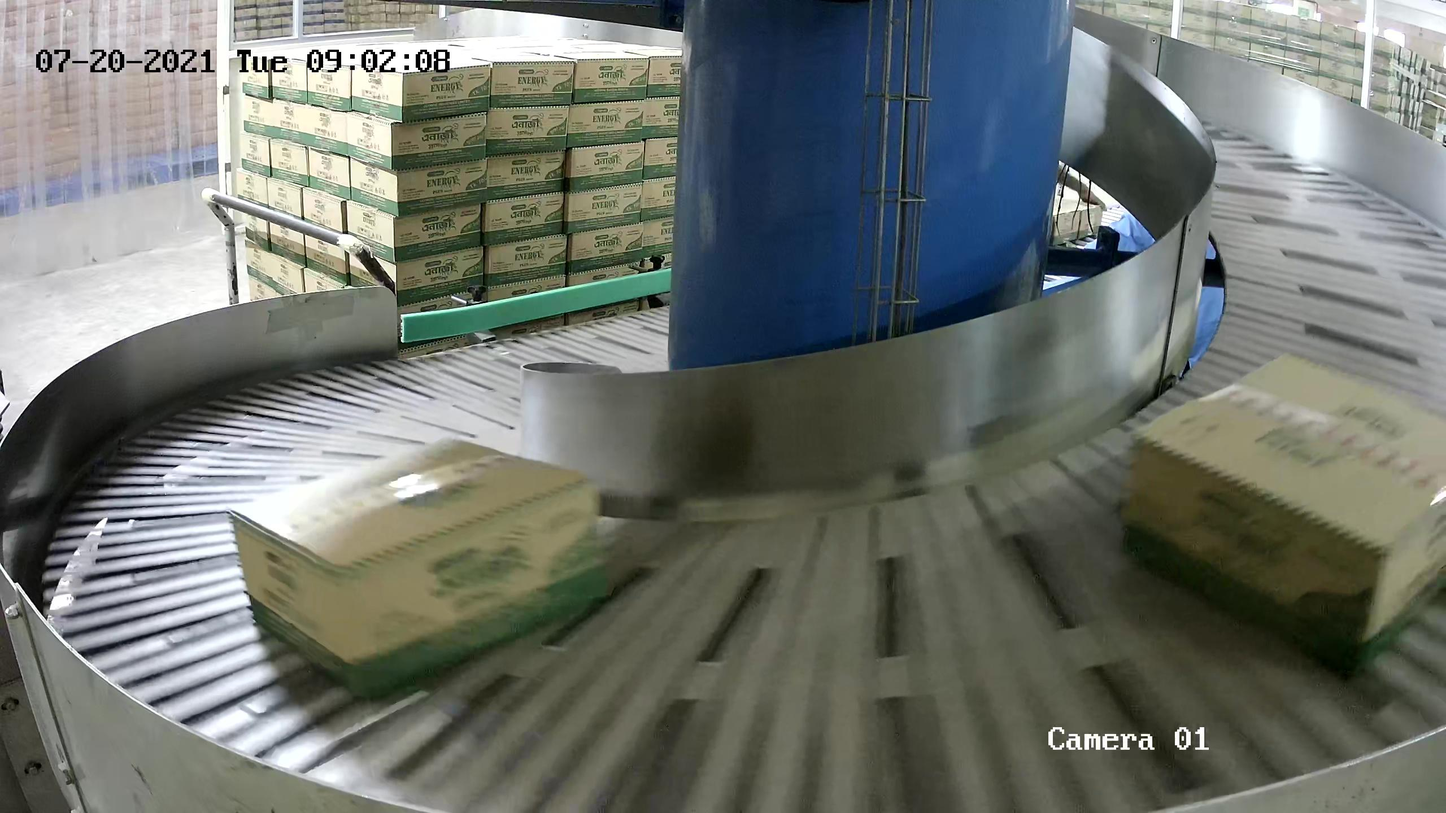Box: (1121, 347, 1446, 678), (225, 429, 605, 704)
